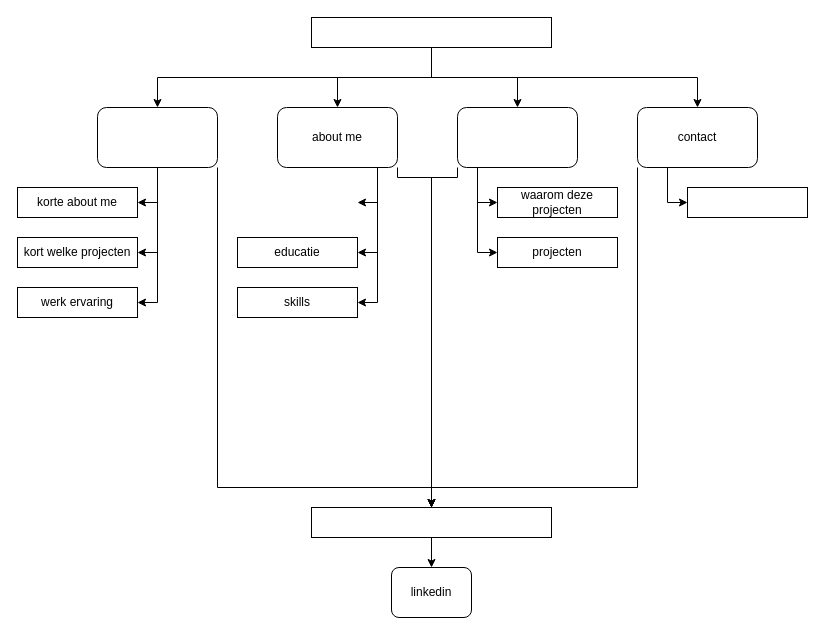
The diagram is 825 pixels wide and 635 high, and some of its shapes have lost their labels. The shapes that lost their labels are listed below. From the top down, each one's box as (x1, y1, x2, y2) in pixels, then its label:
(310, 16, 552, 48): Navbar
(96, 106, 218, 168): Home
(456, 106, 578, 168): projecten/portfolio
(686, 186, 808, 218): contact formulier
(310, 506, 552, 538): footer
